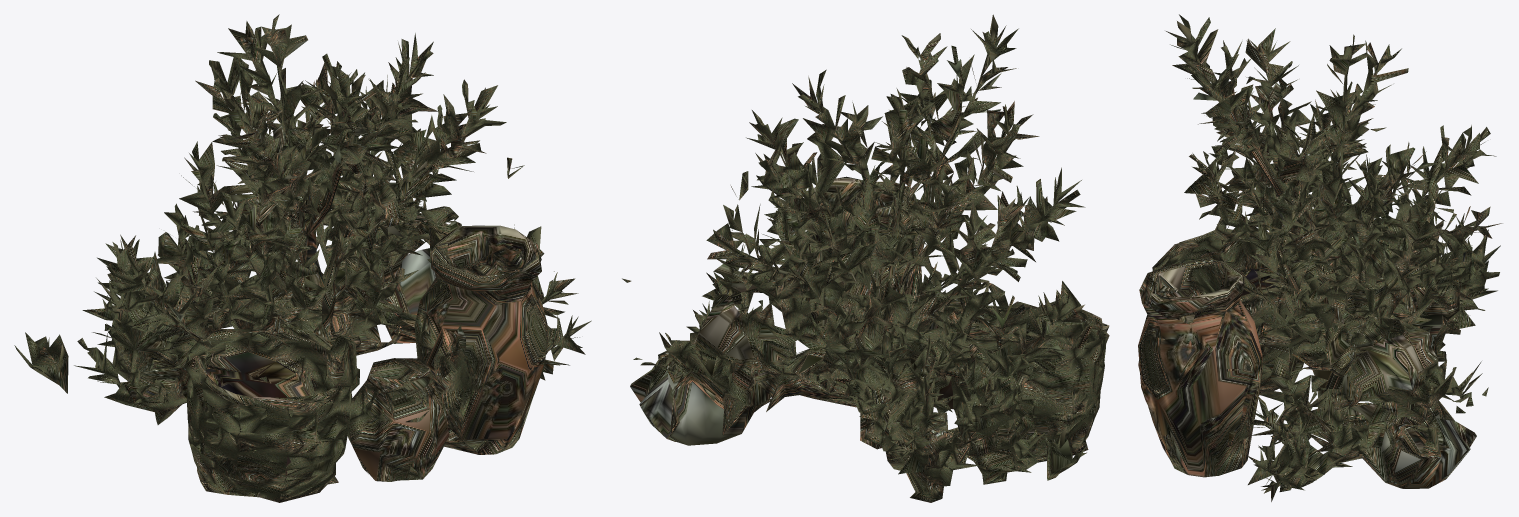
Rendered from olive-basket-cluster-a.glb.
3 renders of one model, left to right at view 1: azimuth 30°, elevation 25°; view 2: azimuth 150°, elevation 25°; view 3: azimuth 270°, elevation 25°, orthographic. The views are drawn at different scales.
Parts seen in each view (by area): view 1: geometry_0; view 2: geometry_0; view 3: geometry_0.
Part boxes in pixels (<box>): geometry_0: <box>14,14,591,502</box>; geometry_0: <box>622,14,1109,502</box>; geometry_0: <box>1138,14,1502,501</box>.
Size of the model in its own units: 1.89 by 1.5 by 1.3.
1 material, 1 textured.
